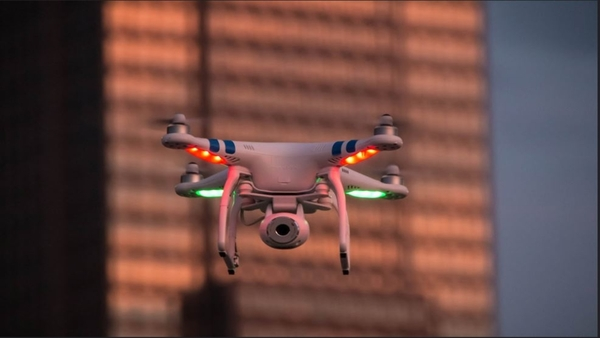drone: (146, 108, 411, 276)
